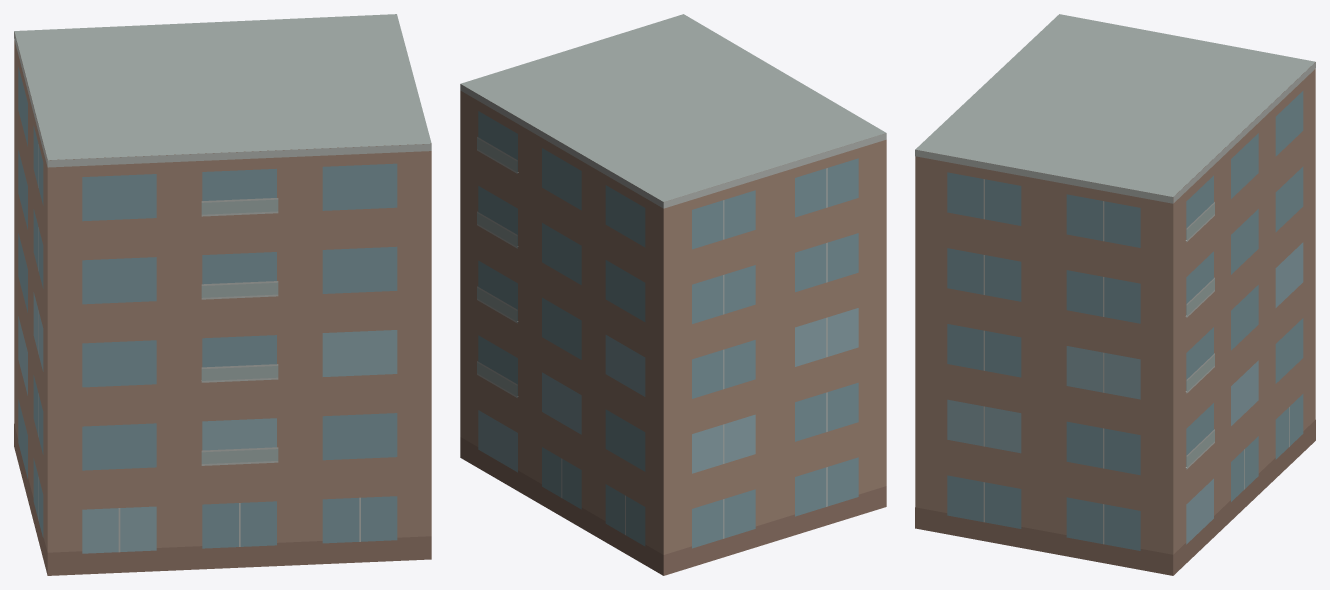
File: survey-upis-33006078.glb
3 views of the same model, side by side, from view 1: azimuth 30°, elevation 25°; view 2: azimuth 150°, elevation 25°; view 3: azimuth 270°, elevation 25° (orthographic). The views are drawn at different scales.
Parts seen in each view (by area): view 1: survey-upis-33006078.tmp; view 2: survey-upis-33006078.tmp; view 3: survey-upis-33006078.tmp.
Part boxes in pixels (x1,y1,x2,y2): survey-upis-33006078.tmp: (14,14,431,575); survey-upis-33006078.tmp: (460,14,886,575); survey-upis-33006078.tmp: (915,14,1315,575).
Size of the model in its own units: 14.36 by 13.85 by 13.29.
